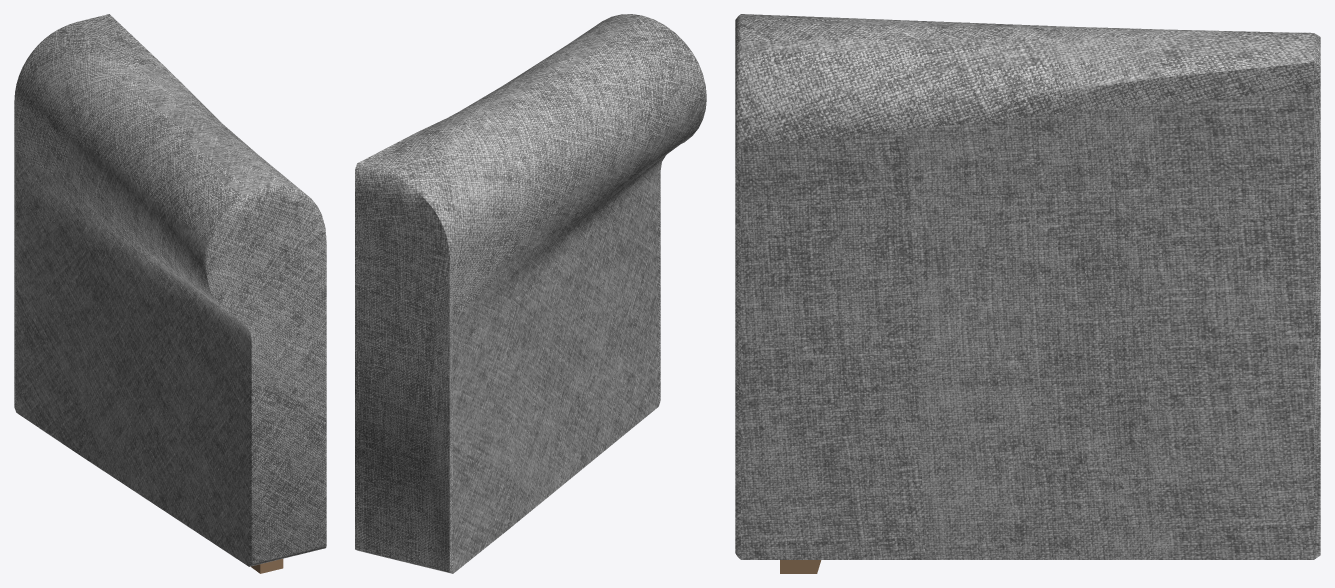
File: armrestL.gltf
The picture shows the model from 3 angles, left to right: view 1: azimuth 30°, elevation 25°; view 2: azimuth 150°, elevation 25°; view 3: azimuth 270°, elevation 25°; orthographic projection. The views are drawn at different scales.
Visible parts, largest first — view 1: ArmrestL; view 2: ArmrestL; view 3: ArmrestL.
Part boxes in pixels (x1,y1,x2,y2): ArmrestL: (14,14,326,566); ArmrestL: (355,14,706,573); ArmrestL: (735,14,1320,559).
Bounding box in the file's own units: 20.32 × 63.36 × 63.47.
2 materials, 1 textured.
